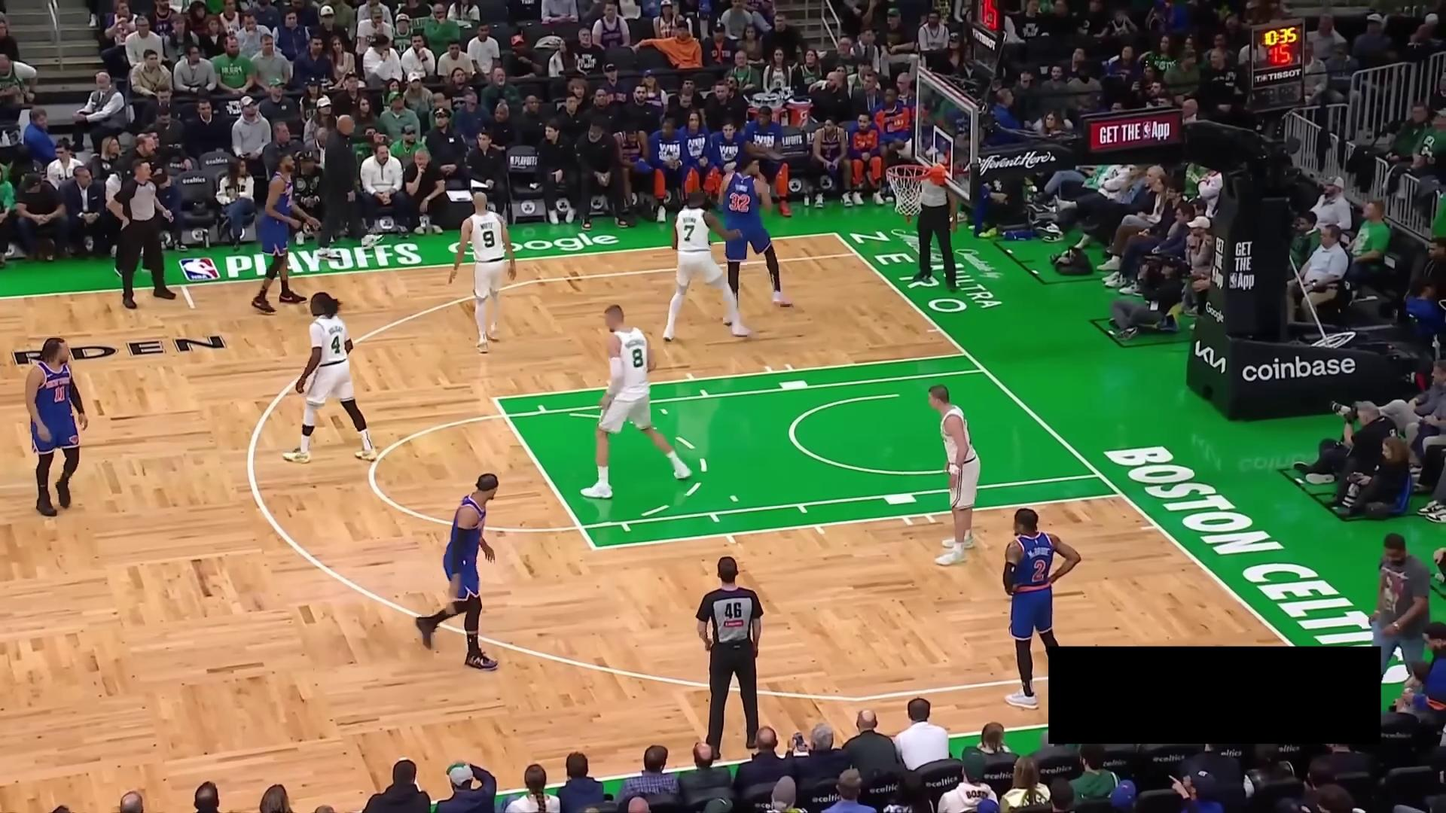number: (629, 346, 645, 368), (1031, 556, 1046, 579), (732, 194, 749, 212), (682, 222, 696, 243), (330, 334, 344, 354), (481, 230, 496, 248), (52, 385, 65, 401)
player: (580, 304, 690, 501), (282, 291, 382, 464), (415, 471, 500, 672), (1001, 507, 1081, 710), (661, 188, 754, 342), (719, 150, 793, 309), (448, 190, 519, 352), (250, 151, 319, 315), (26, 337, 88, 516), (930, 384, 980, 567)
referee: (695, 554, 763, 766), (111, 159, 178, 309), (913, 169, 961, 291)
rim: (885, 163, 931, 180)
